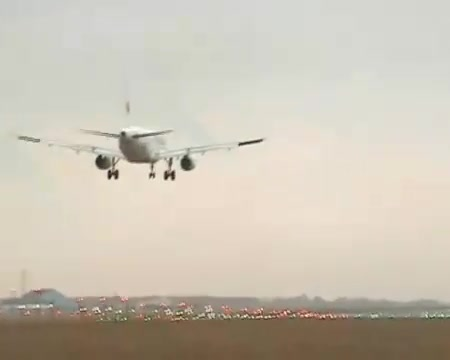aeroplane: (17, 74, 265, 184), (3, 289, 82, 318)
